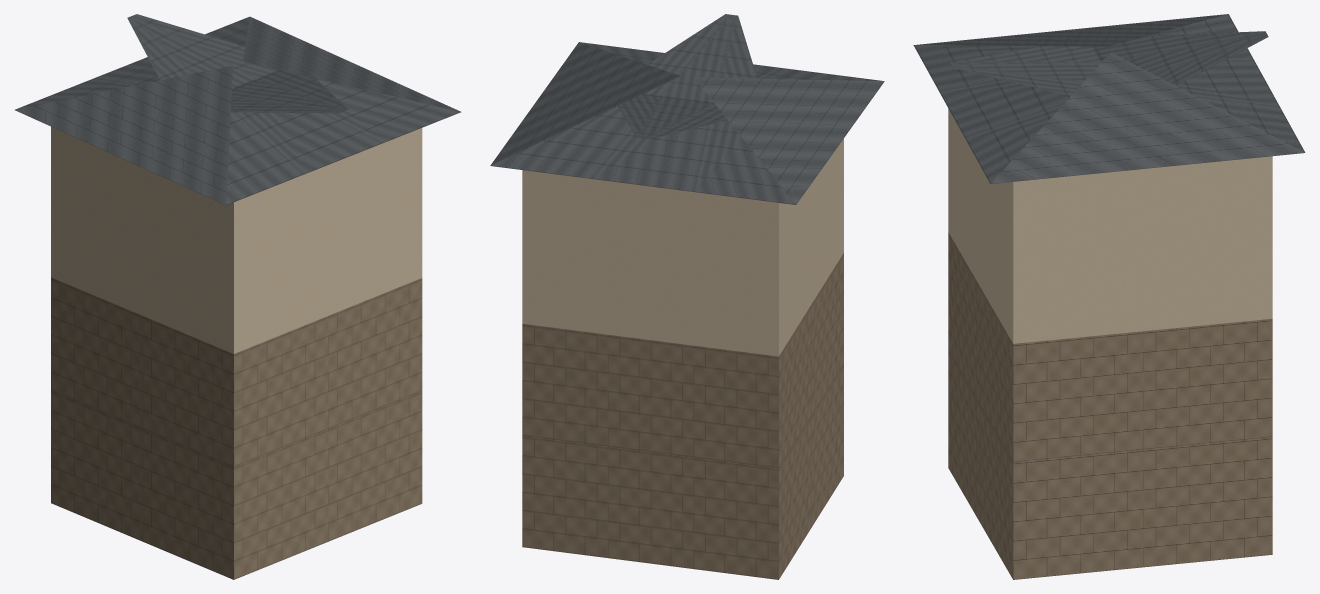
Rendered from bld_c14_11_513.gltf.
The picture shows the model from 3 angles, left to right: view 1: azimuth 30°, elevation 25°; view 2: azimuth 150°, elevation 25°; view 3: azimuth 270°, elevation 25°; orthographic projection. The views are drawn at different scales.
Parts seen in each view (by area): view 1: bld_c14_11_513; view 2: bld_c14_11_513; view 3: bld_c14_11_513.
Boxes of the visible parts, x1,y1,x2,y2 form: bld_c14_11_513: [15, 14, 461, 579]; bld_c14_11_513: [490, 14, 884, 579]; bld_c14_11_513: [913, 14, 1305, 579].
Size of the model in its own units: 7.38 by 9.3 by 7.19.
Materials: 3 (3 with a texture image).
